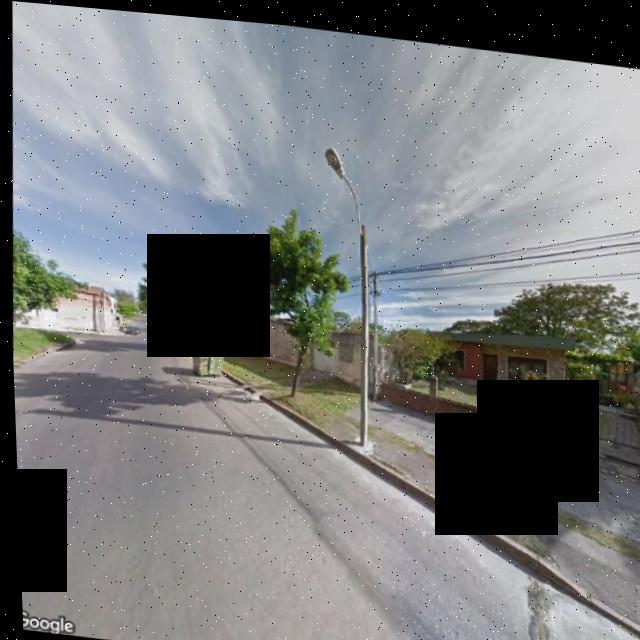bin: (176, 334, 230, 378)
